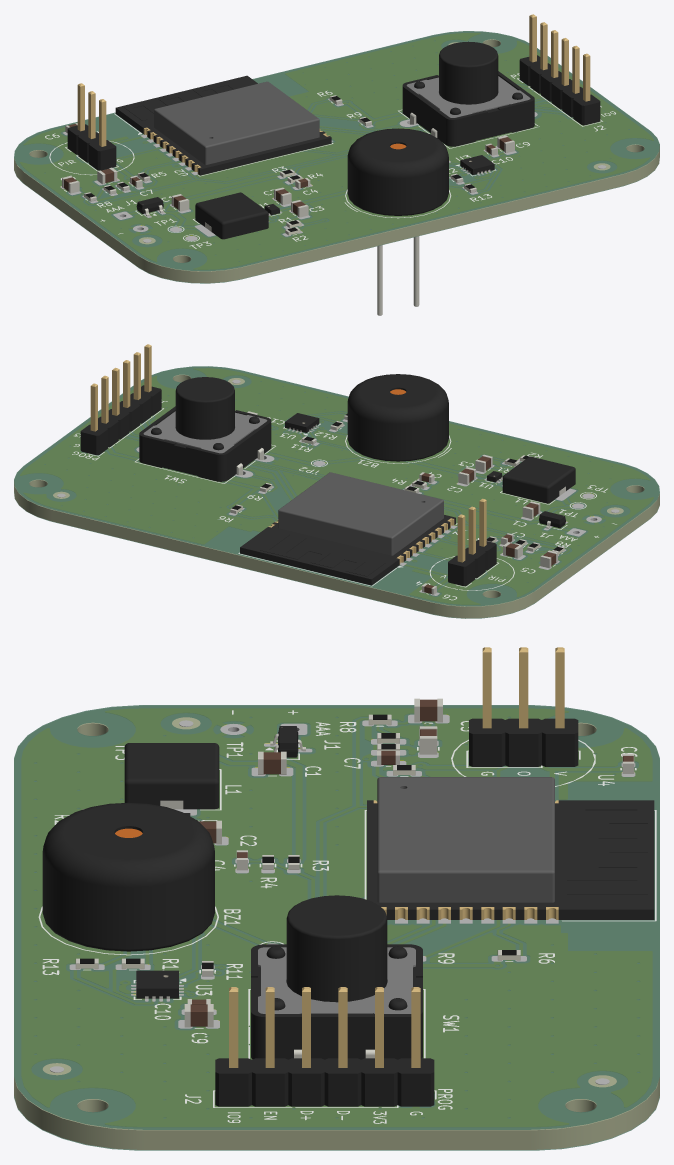
The model's file is board.glb.
3 views of the same model, one above another, from view 1: azimuth 30°, elevation 25°; view 2: azimuth 150°, elevation 25°; view 3: azimuth 270°, elevation 25° (orthographic). The views are drawn at different scales.
Visible parts, largest first — view 1: =>[0:1:1:31], =>[0:1:1:26]_ded4d9, =>[0:1:1:33]_e42bae, =>[0:1:1:7]_191d1b, =>[0:1:1:33]_0ed0c1, =>[0:1:1:21]_ec0f8b, =>[0:1:1:23]_42d2da, =>[0:1:1:21]_b4bca8, =>[0:1:1:7]_0c0bb2, =>[0:1:1:23]_1b4626, =>[0:1:1:7]_9d2639, =>[0:1:1:21]_0c1353 (+18 smaller); view 2: =>[0:1:1:31], =>[0:1:1:26]_ded4d9, =>[0:1:1:33]_e42bae, =>[0:1:1:7]_191d1b, =>[0:1:1:33]_9b7c22, =>[0:1:1:21]_ec0f8b, =>[0:1:1:7]_0c0bb2, =>[0:1:1:23]_42d2da, =>[0:1:1:21]_b4bca8, =>[0:1:1:23]_2898cc, =>[0:1:1:7]_d4bbfa, =>[0:1:1:21]_0c1353 (+15 smaller); view 3: =>[0:1:1:31], =>[0:1:1:26]_ded4d9, =>[0:1:1:33]_e42bae, =>[0:1:1:7]_191d1b, =>[0:1:1:7]_0c0bb2, =>[0:1:1:21]_ec0f8b, =>[0:1:1:33]_88f636, =>[0:1:1:23]_42d2da, =>[0:1:1:21]_b4bca8, =>[0:1:1:21]_0c1353, =>[0:1:1:7]_b62183, =>[0:1:1:23]_cac9b2 (+29 smaller).
Boxes of the visible parts, x1=… form: =>[0:1:1:31]: x1=14, y1=31, x2=659, y2=271; =>[0:1:1:26]_ded4d9: x1=20, y1=33, x2=652, y2=268; =>[0:1:1:33]_e42bae: x1=14, y1=32, x2=658, y2=271; =>[0:1:1:7]_191d1b: x1=156, y1=81, x2=317, y2=145; =>[0:1:1:33]_0ed0c1: x1=242, y1=175, x2=621, y2=278; =>[0:1:1:21]_ec0f8b: x1=347, y1=157, x2=448, y2=214; =>[0:1:1:23]_42d2da: x1=439, y1=55, x2=498, y2=104; =>[0:1:1:21]_b4bca8: x1=347, y1=128, x2=448, y2=178; =>[0:1:1:7]_0c0bb2: x1=116, y1=75, x2=331, y2=169; =>[0:1:1:23]_1b4626: x1=457, y1=101, x2=530, y2=145; =>[0:1:1:7]_9d2639: x1=207, y1=121, x2=318, y2=164; =>[0:1:1:21]_0c1353: x1=360, y1=129, x2=436, y2=161; =>[0:1:1:31]: x1=14, y1=366, x2=659, y2=606; =>[0:1:1:26]_ded4d9: x1=21, y1=368, x2=653, y2=603; =>[0:1:1:33]_e42bae: x1=15, y1=367, x2=659, y2=606; =>[0:1:1:7]_191d1b: x1=280, y1=472, x2=441, y2=536; =>[0:1:1:33]_9b7c22: x1=52, y1=510, x2=431, y2=613; =>[0:1:1:21]_ec0f8b: x1=347, y1=403, x2=448, y2=459; =>[0:1:1:7]_0c0bb2: x1=240, y1=515, x2=455, y2=579; =>[0:1:1:23]_42d2da: x1=175, y1=390, x2=234, y2=439; =>[0:1:1:21]_b4bca8: x1=347, y1=374, x2=448, y2=423; =>[0:1:1:23]_2898cc: x1=143, y1=437, x2=216, y2=481; =>[0:1:1:7]_d4bbfa: x1=279, y1=511, x2=390, y2=555; =>[0:1:1:21]_0c1353: x1=360, y1=375, x2=436, y2=407; =>[0:1:1:31]: x1=14, y1=705, x2=659, y2=1129; =>[0:1:1:26]_ded4d9: x1=22, y1=709, x2=651, y2=1126; =>[0:1:1:33]_e42bae: x1=14, y1=706, x2=659, y2=1130; =>[0:1:1:7]_191d1b: x1=380, y1=777, x2=551, y2=870; =>[0:1:1:7]_0c0bb2: x1=367, y1=800, x2=654, y2=909; =>[0:1:1:21]_ec0f8b: x1=42, y1=852, x2=214, y2=948; =>[0:1:1:33]_88f636: x1=143, y1=1130, x2=530, y2=1149; =>[0:1:1:23]_42d2da: x1=286, y1=919, x2=387, y2=1002; =>[0:1:1:21]_b4bca8: x1=42, y1=802, x2=214, y2=887; =>[0:1:1:21]_0c1353: x1=64, y1=804, x2=193, y2=859; =>[0:1:1:7]_b62183: x1=380, y1=874, x2=551, y2=902; =>[0:1:1:23]_cac9b2: x1=265, y1=1017, x2=408, y2=1059.
Size of the model in its own units: 0.07 by 0.0235 by 0.045.
